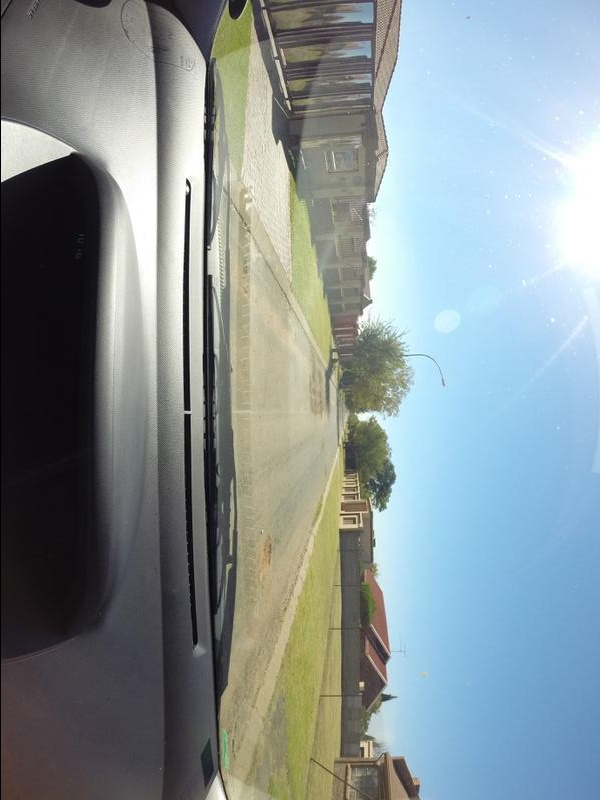pothole: (251, 531, 279, 588)
